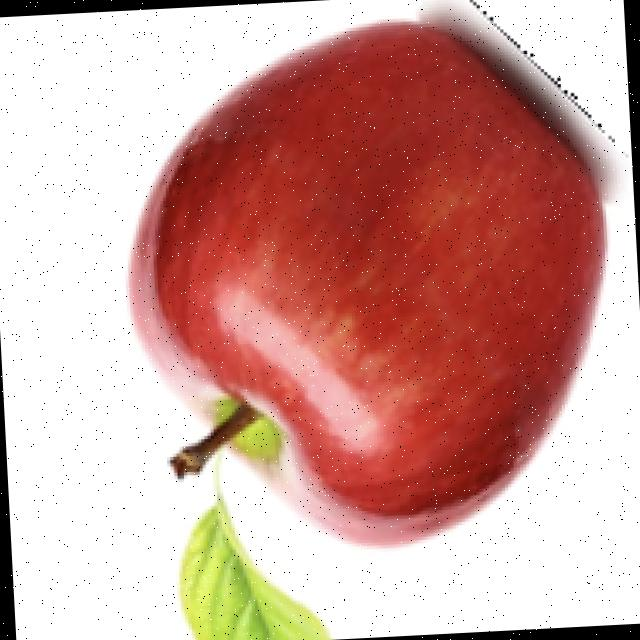apple: (122, 0, 629, 554)
